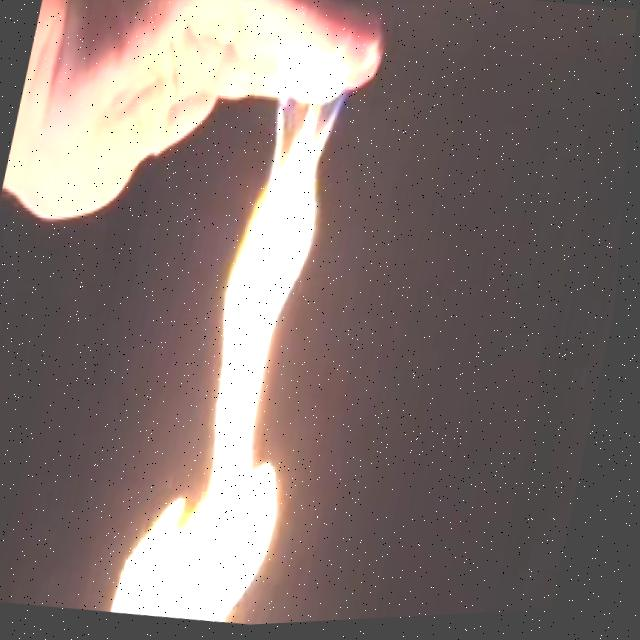Fire: (111, 23, 385, 634)
